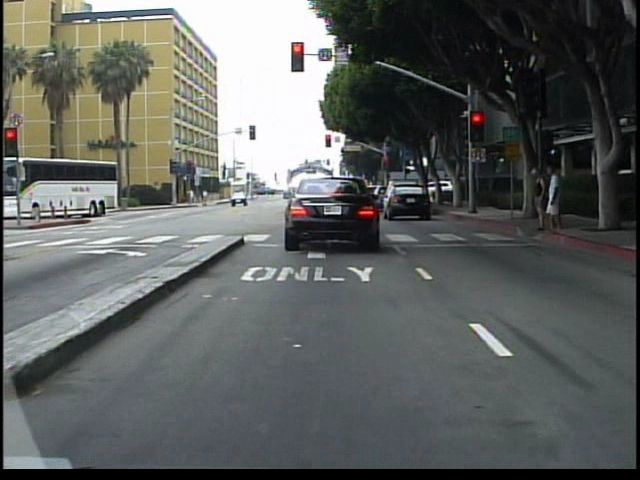person: (543, 165, 567, 238), (526, 163, 548, 234)
